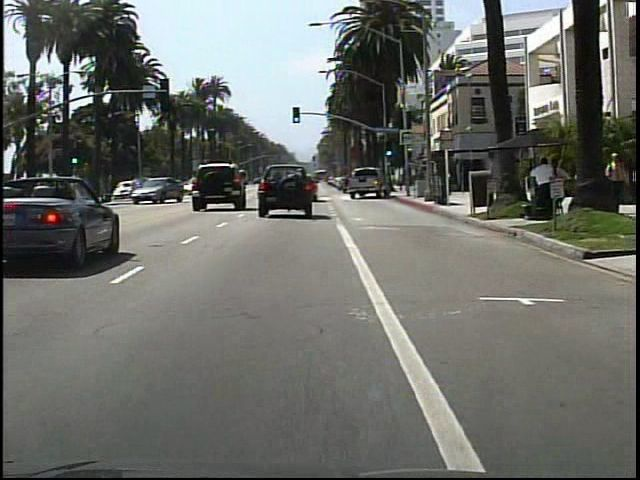person: (528, 155, 555, 222), (550, 155, 573, 223)
